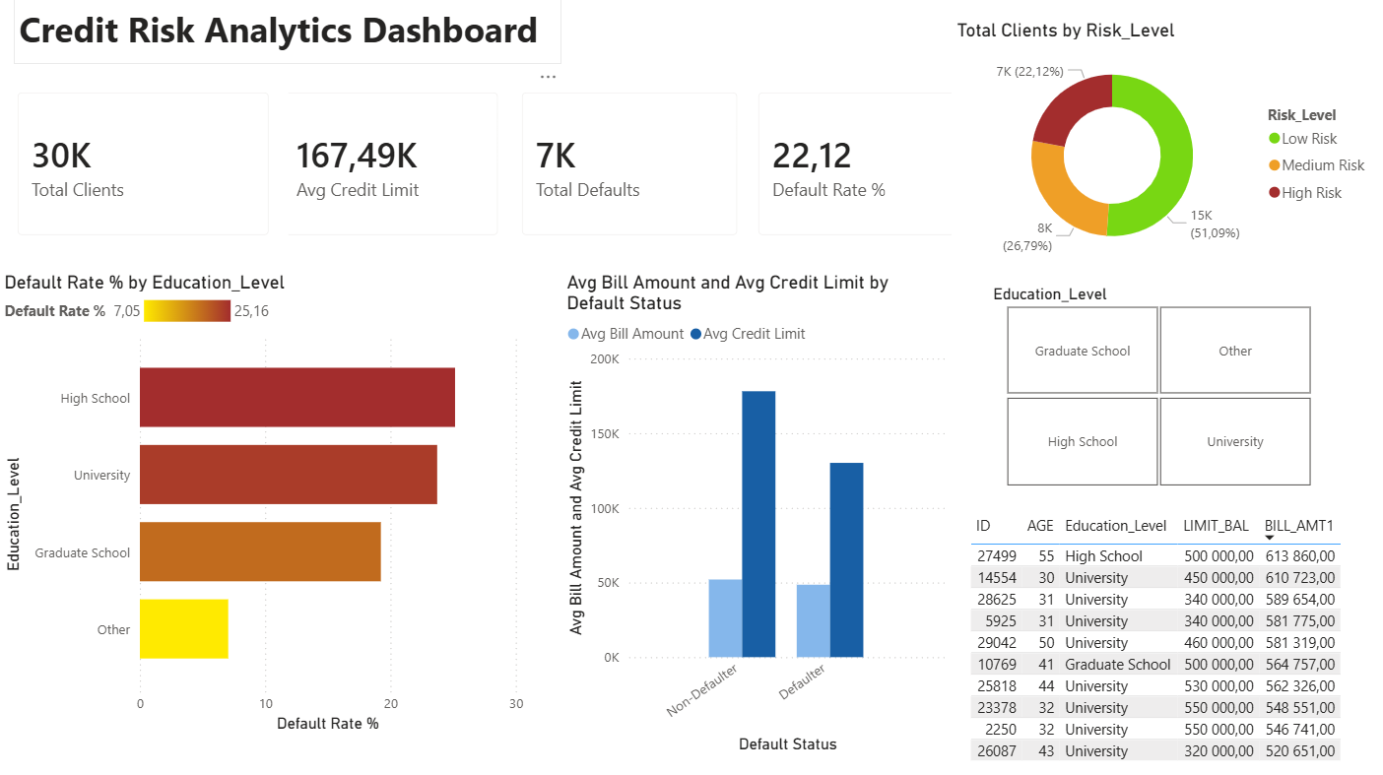

The dashboard page shown, as its layout file describes it:
{"tool":"powerbi","page":{"name":"Page 1","canvas":[1280,720],"ordinal":0},"visuals":[{"type":"tableEx","fields":{"Values":["credit_risk credit_card.ID","credit_risk credit_card.AGE","credit_risk credit_card.Education_Level","credit_risk credit_card.LIMIT_BAL","credit_risk credit_card.BILL_AMT1"]},"box":[891.1,471.1,370,248.9],"z":0},{"type":"cardVisual","fields":{"Data":["credit_risk credit_card.Total Defaults"]},"box":[465.6,68.9,233.3,166.7],"z":1000},{"type":"cardVisual","fields":{"Data":["credit_risk credit_card.Default Rate %"]},"box":[683.3,68.9,221.1,166.7],"z":2000},{"type":"cardVisual","fields":{"Data":["credit_risk credit_card.Avg Credit Limit"]},"box":[244.4,68.9,233.3,166.7],"z":3000},{"type":"clusteredBarChart","fields":{"Category":["credit_risk credit_card.Education_Level"],"Y":["credit_risk credit_card.Default Rate %"]},"box":[0,251.1,488.9,431.1],"z":4000},{"type":"clusteredColumnChart","fields":{"Y":["credit_risk credit_card.Avg Bill Amount","credit_risk credit_card.Avg Credit Limit"],"Category":["credit_risk credit_card.Default Status"]},"box":[518.9,251.1,360,450],"z":5000},{"type":"donutChart","fields":{"Category":["credit_risk credit_card.Risk_Level"],"Y":["credit_risk credit_card.Total Clients"]},"box":[878.9,17.8,395.6,233.3],"z":6000},{"type":"cardVisual","fields":{"Data":["credit_risk credit_card.Total Clients"]},"box":[0,68.9,266.7,166.7],"z":6001},{"type":"textbox","box":[13.3,0,505.6,60],"z":6002},{"type":"slicer","fields":{"Values":["credit_risk credit_card.Education_Level"]},"box":[904.4,258.9,330,196.7],"z":6003}]}

Visuals, with their boxes in screenshot pixels (x1, y1, x2, y2), scaled from the page's 1280x720 canvas onto the 1383x775 screenshot:
tableEx - credit_risk credit_card.ID x credit_risk credit_card.AGE: (963,507,1363,774)
cardVisual - credit_risk credit_card.Total Defaults: (503,74,755,254)
cardVisual - credit_risk credit_card.Default Rate %: (738,74,977,254)
cardVisual - credit_risk credit_card.Avg Credit Limit: (264,74,516,254)
clusteredBarChart - credit_risk credit_card.Education_Level x credit_risk credit_card.Default Rate %: (0,270,528,734)
clusteredColumnChart - credit_risk credit_card.Avg Bill Amount x credit_risk credit_card.Avg Credit Limit: (561,270,950,755)
donutChart - credit_risk credit_card.Risk_Level x credit_risk credit_card.Total Clients: (950,19,1377,270)
cardVisual - credit_risk credit_card.Total Clients: (0,74,288,254)
textbox: (14,0,561,65)
slicer - credit_risk credit_card.Education_Level: (977,279,1334,490)
